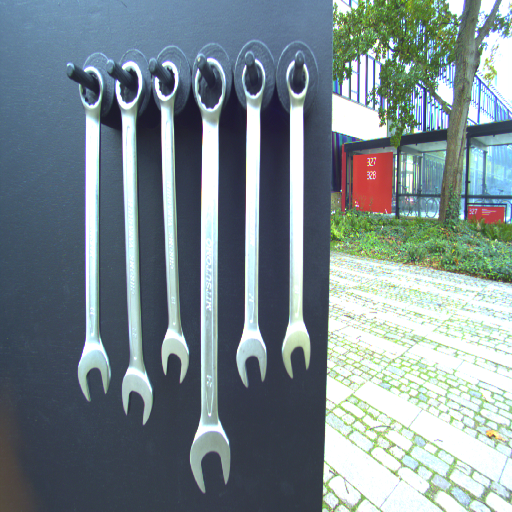bottom: (188, 423, 236, 495), (75, 340, 112, 404), (119, 365, 155, 428), (234, 328, 270, 389), (158, 325, 191, 387), (281, 319, 313, 379)
top: (192, 56, 228, 118), (113, 60, 144, 111), (75, 66, 106, 113), (240, 55, 267, 108), (152, 60, 182, 107), (283, 57, 311, 104)
